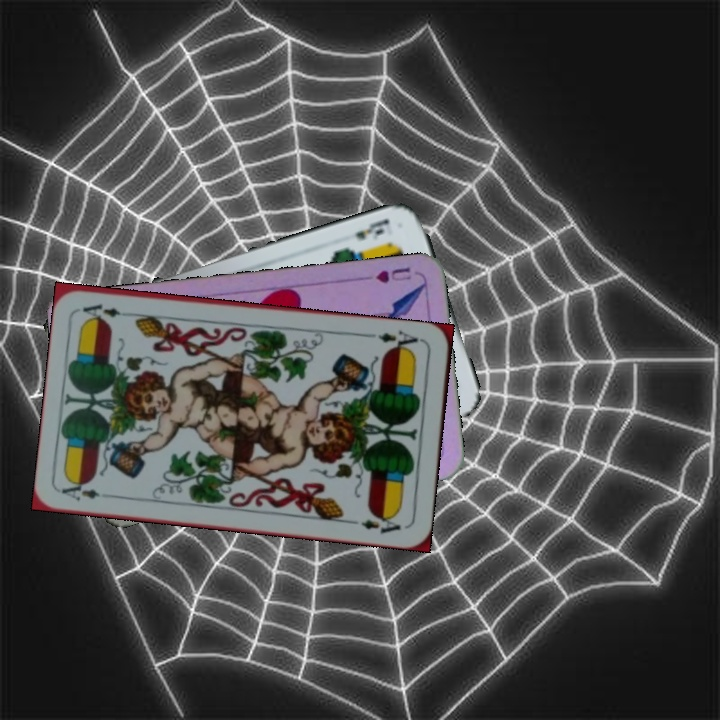EA: (366, 326, 426, 355), (58, 477, 117, 504)
EK: (351, 214, 392, 243)
HU: (371, 263, 414, 286)
